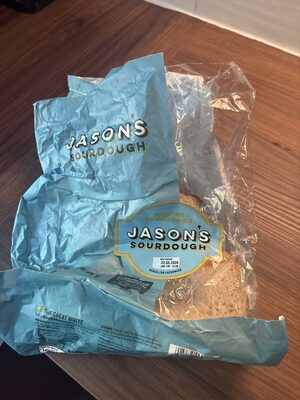Proper Sourdough: (15, 20, 285, 380)
